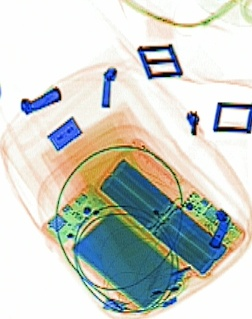powerbank: (92, 136, 247, 279)
